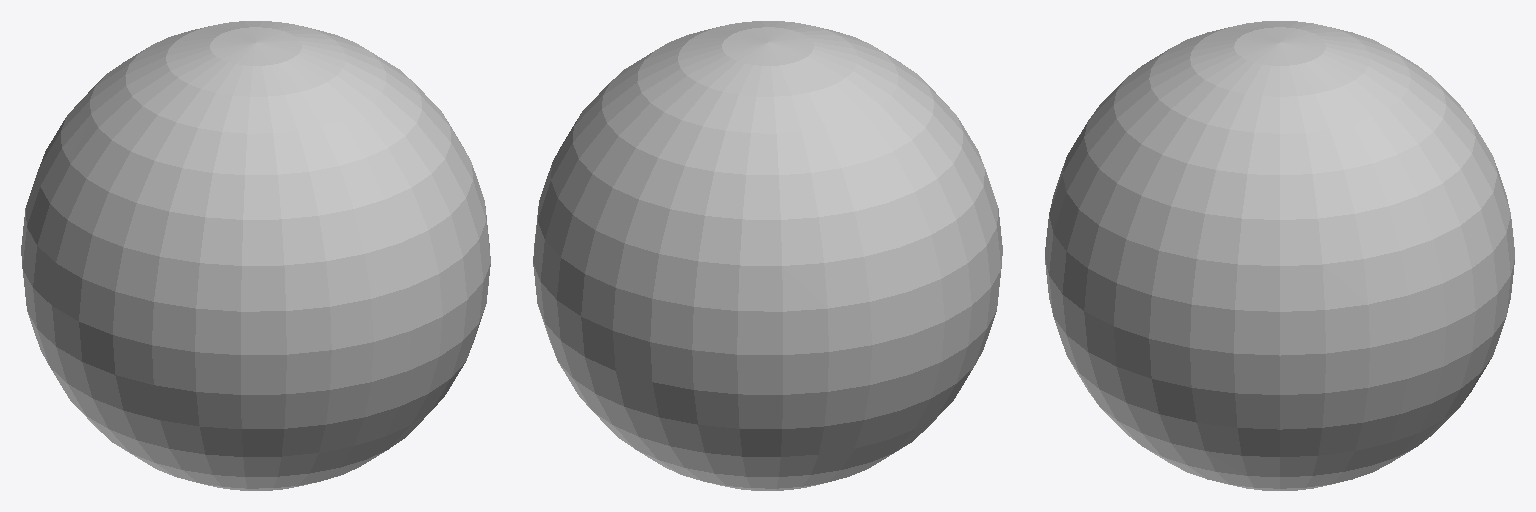
Rendered from ball.obj.
3 renders of one model, left to right at view 1: azimuth 30°, elevation 25°; view 2: azimuth 150°, elevation 25°; view 3: azimuth 270°, elevation 25°, orthographic.
Size of the model in its own units: 0.152 by 0.152 by 0.152.